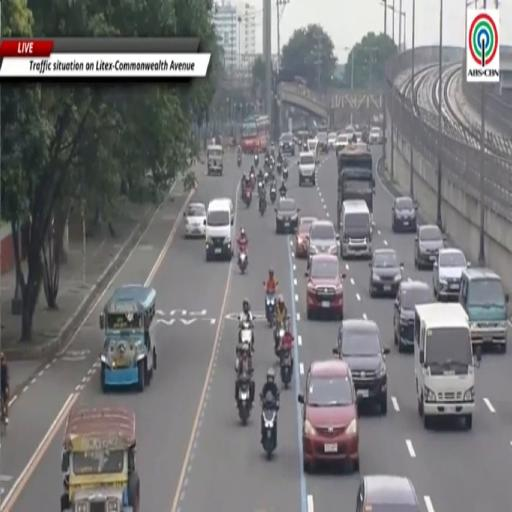bus: (337, 143, 375, 225), (241, 116, 270, 153)
car: (298, 359, 359, 472), (333, 319, 389, 414), (394, 281, 434, 353), (306, 254, 345, 319), (357, 475, 420, 511), (433, 248, 468, 300), (369, 249, 403, 297), (414, 224, 446, 269), (308, 220, 339, 257), (274, 197, 300, 234), (295, 217, 317, 259), (392, 197, 417, 232), (185, 202, 206, 237), (298, 152, 316, 186), (280, 133, 294, 155), (335, 134, 349, 155), (316, 131, 328, 154), (369, 126, 383, 145), (328, 133, 336, 149), (354, 131, 363, 142), (345, 125, 354, 135)
jeepney: (61, 407, 139, 511), (100, 285, 156, 392), (207, 146, 223, 175)
motorcycle: (262, 405, 277, 459), (279, 332, 293, 389), (237, 376, 252, 425), (274, 317, 290, 356), (236, 323, 253, 354), (265, 294, 275, 327), (274, 326, 285, 355), (239, 249, 247, 274), (259, 194, 266, 216), (244, 187, 251, 207), (270, 184, 276, 203), (250, 171, 255, 189), (258, 180, 264, 195), (280, 187, 287, 198), (264, 171, 269, 184), (283, 168, 288, 181), (277, 163, 282, 175), (254, 154, 258, 167), (237, 154, 241, 167)
